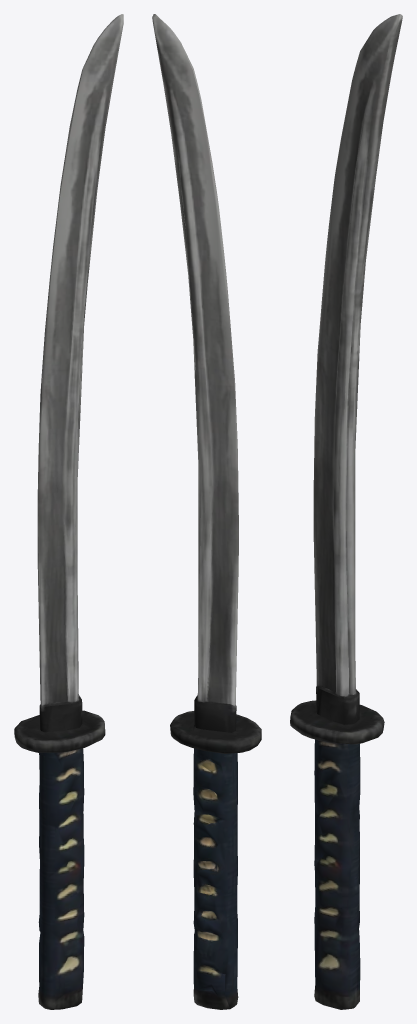
3 views of the same model, side by side, from view 1: azimuth 30°, elevation 25°; view 2: azimuth 150°, elevation 25°; view 3: azimuth 330°, elevation 25° (orthographic). The views are drawn at different scales.
Visible parts, largest first — view 1: kunoichi-katana; view 2: kunoichi-katana; view 3: kunoichi-katana.
Boxes of the visible parts, <box> form: kunoichi-katana: <box>14,14,123,1009</box>; kunoichi-katana: <box>152,14,261,1009</box>; kunoichi-katana: <box>290,14,402,1009</box>.
Bounding box in the file's own units: 0.1173 × 1.05 × 0.07.
Materials: 1 (1 with a texture image).
